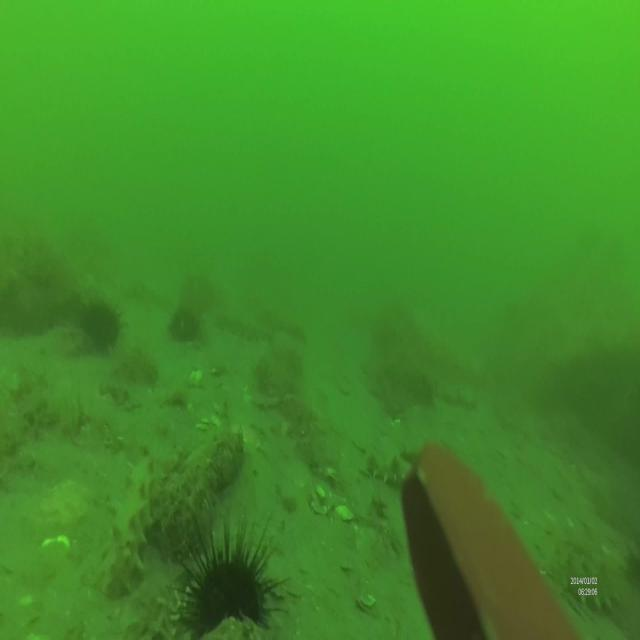echinus: (171, 515, 289, 640), (80, 292, 124, 350), (169, 302, 203, 346)
holothurian: (95, 444, 157, 599), (561, 536, 633, 608), (362, 442, 455, 494), (218, 312, 276, 347)
